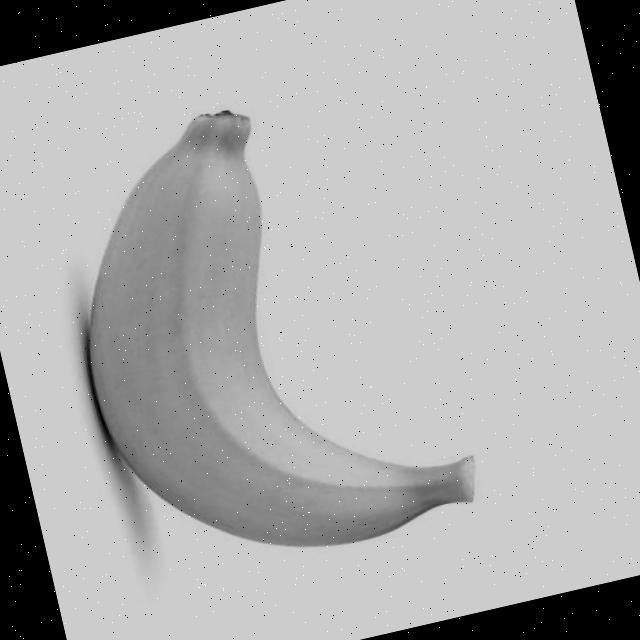banana: (37, 70, 486, 594)
